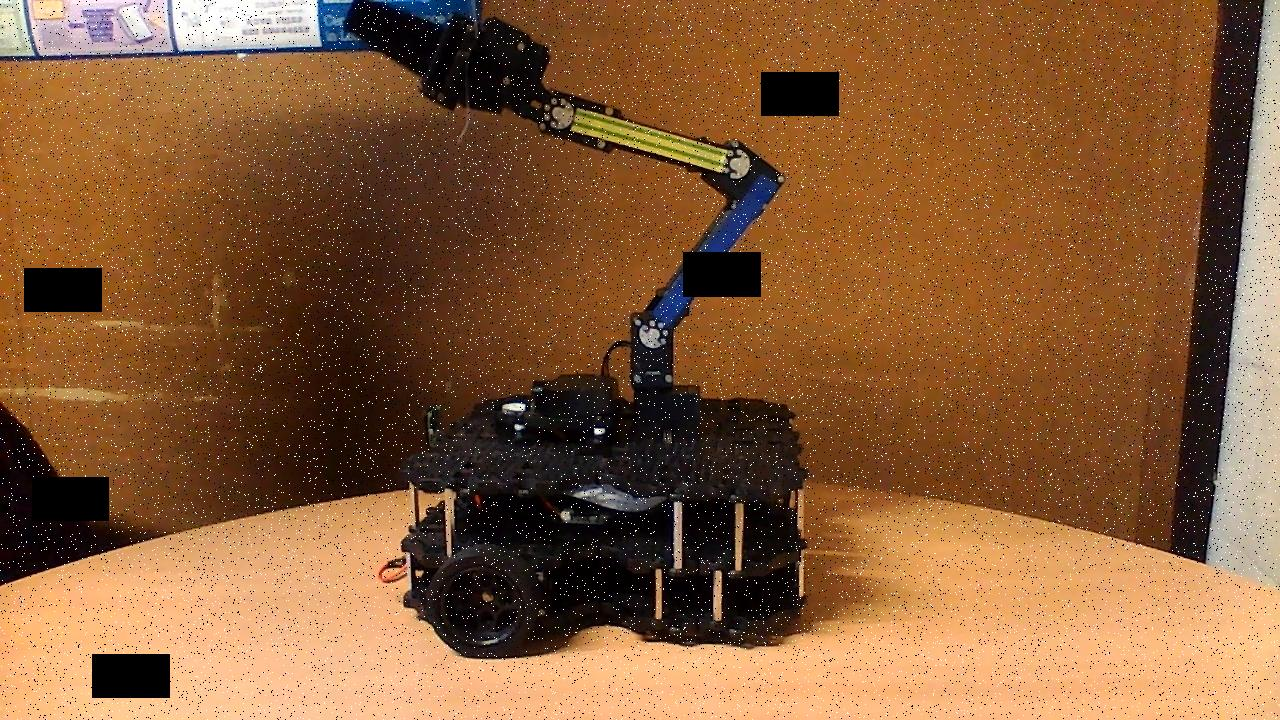Arm: (629, 173, 788, 353)
Hand: (339, 0, 557, 138)
Wrist: (544, 93, 752, 185)
base: (377, 371, 813, 661)
